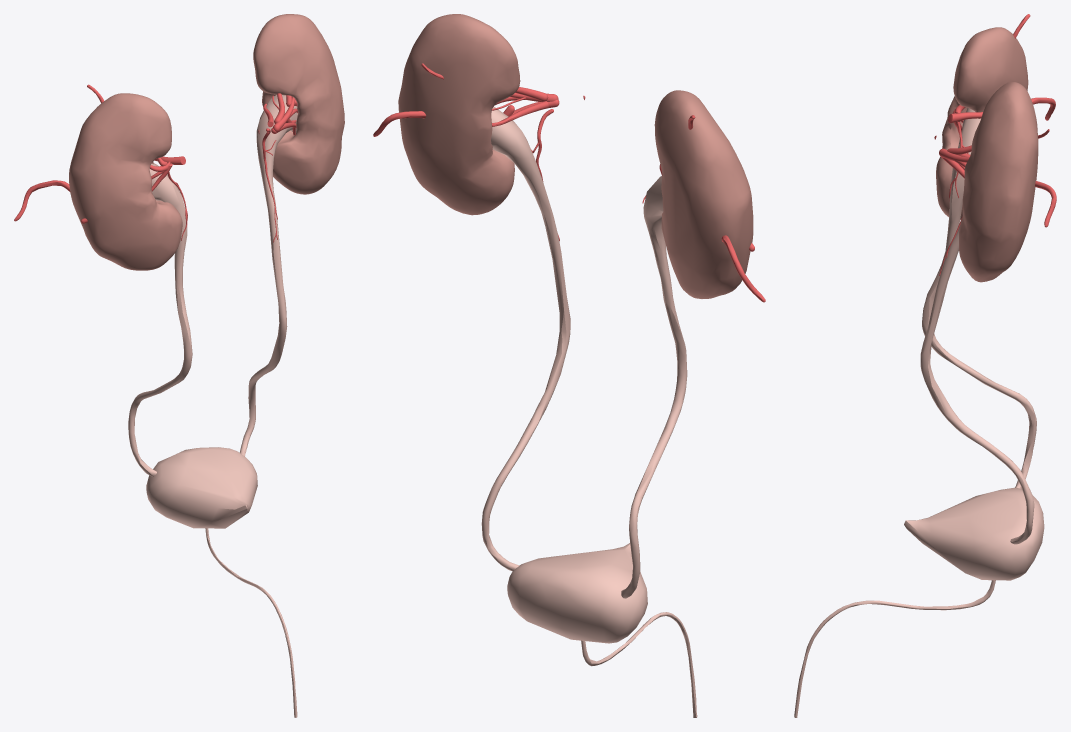
File: urinario.glb
3 views of the same model, side by side, from view 1: azimuth 30°, elevation 25°; view 2: azimuth 150°, elevation 25°; view 3: azimuth 270°, elevation 25° (orthographic). The views are drawn at different scales.
Parts seen in each view (by area): view 1: rinon-d, rinon-i, vejiga, ureter-i, ureter-d, uretra; view 2: rinon-i, rinon-d, vejiga, ureter-i, ureter-d, uretra; view 3: rinon-i, vejiga, rinon-d, ureter-i, ureter-d, uretra.
Boxes of the visible parts, bbox=[...] form: rinon-d: bbox=[69, 93, 182, 270]; rinon-i: bbox=[253, 14, 344, 194]; vejiga: bbox=[146, 447, 257, 528]; ureter-i: bbox=[239, 95, 297, 456]; ureter-d: bbox=[128, 163, 192, 476]; uretra: bbox=[205, 528, 297, 717]; rinon-i: bbox=[398, 14, 520, 215]; rinon-d: bbox=[654, 90, 753, 298]; vejiga: bbox=[507, 543, 647, 643]; ureter-i: bbox=[481, 106, 570, 571]; ureter-d: bbox=[621, 176, 687, 598]; uretra: bbox=[581, 612, 697, 717]; rinon-i: bbox=[959, 82, 1038, 282]; vejiga: bbox=[904, 487, 1044, 580]; rinon-d: bbox=[936, 27, 1028, 219]; ureter-i: bbox=[920, 226, 1034, 544]; ureter-d: bbox=[922, 108, 1036, 489]; uretra: bbox=[794, 580, 995, 717].
Size of the model in its own units: 0.2053 by 0.3819 by 0.134.
